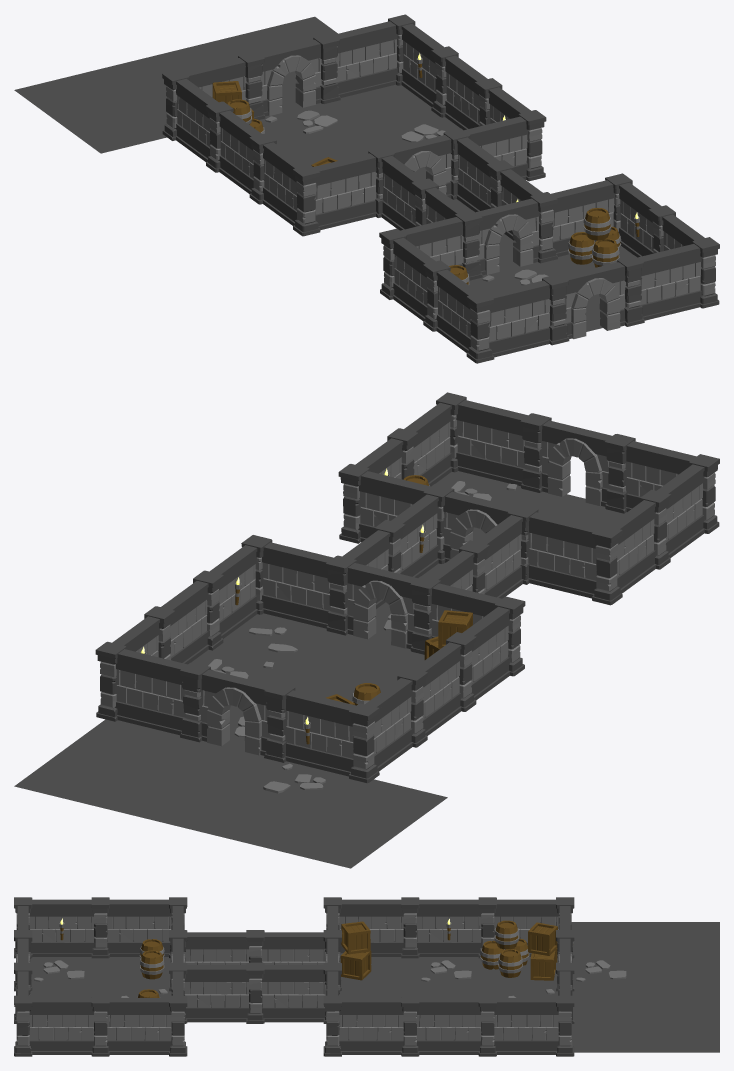
File: dungeon.gltf
The picture shows the model from 3 angles, top to bottom: view 1: azimuth 30°, elevation 25°; view 2: azimuth 150°, elevation 25°; view 3: azimuth 270°, elevation 25°; orthographic projection. The views are drawn at different scales.
Parts seen in each view (by area): view 1: pillar.029, pillar.007, pillar.028, pillar.036, pillar.013, pillar.006, pillar.035, pillar.031, pillar.014, pillar.011, Plane.021, pillar.015 (+30 smaller); view 2: pillar.033, pillar.017, pillar.007, pillar.036, pillar.006, pillar.012, pillar.028, pillar.011, pillar.029, Plane.021, Plane.024, Plane.023 (+29 smaller); view 3: pillar.015, pillar.025, pillar.026, pillar.008, pillar.010, pillar.009, pillar.018, pillar.032, pillar.019, pillar.031, pillar.014, Plane.023 (+41 smaller).
Part boxes in pixels (<box>): pillar.029: <box>487,274,569,357</box>; pillar.007: <box>313,21,398,103</box>; pillar.028: <box>638,237,719,320</box>; pillar.036: <box>563,255,644,339</box>; pillar.013: <box>313,146,394,230</box>; pillar.006: <box>238,39,322,119</box>; pillar.035: <box>455,198,540,280</box>; pillar.031: <box>436,269,494,363</box>; pillar.014: <box>262,142,320,236</box>; pillar.011: <box>464,110,546,181</box>; Plane.021: <box>14,72,132,121</box>; pillar.015: <box>219,110,276,204</box>; pillar.033: <box>527,512,622,605</box>; pillar.017: <box>284,690,379,783</box>; pillar.007: <box>115,649,210,742</box>; pillar.036: <box>520,413,611,506</box>; pillar.006: <box>200,669,295,762</box>; pillar.012: <box>325,555,417,648</box>; pillar.028: <box>436,392,527,486</box>; pillar.011: <box>241,535,333,628</box>; pillar.029: <box>604,434,696,513</box>; Plane.021: <box>267,812,398,868</box>; Plane.024: <box>98,771,230,827</box>; Plane.023: <box>182,792,314,847</box>; pillar.015: <box>401,897,481,958</box>; pillar.025: <box>107,995,187,1056</box>; pillar.026: <box>29,995,109,1056</box>; pillar.008: <box>494,995,574,1056</box>; pillar.010: <box>339,995,419,1056</box>; pillar.009: <box>416,995,496,1056</box>; pillar.018: <box>246,962,326,1023</box>; pillar.032: <box>91,897,171,958</box>; pillar.019: <box>169,962,248,1023</box>; pillar.031: <box>14,897,94,958</box>; pillar.014: <box>323,897,403,957</box>; Plane.023: <box>642,954,719,987</box>.
Bounding box in the file's own units: 16.48 × 3.14 × 36.48.
